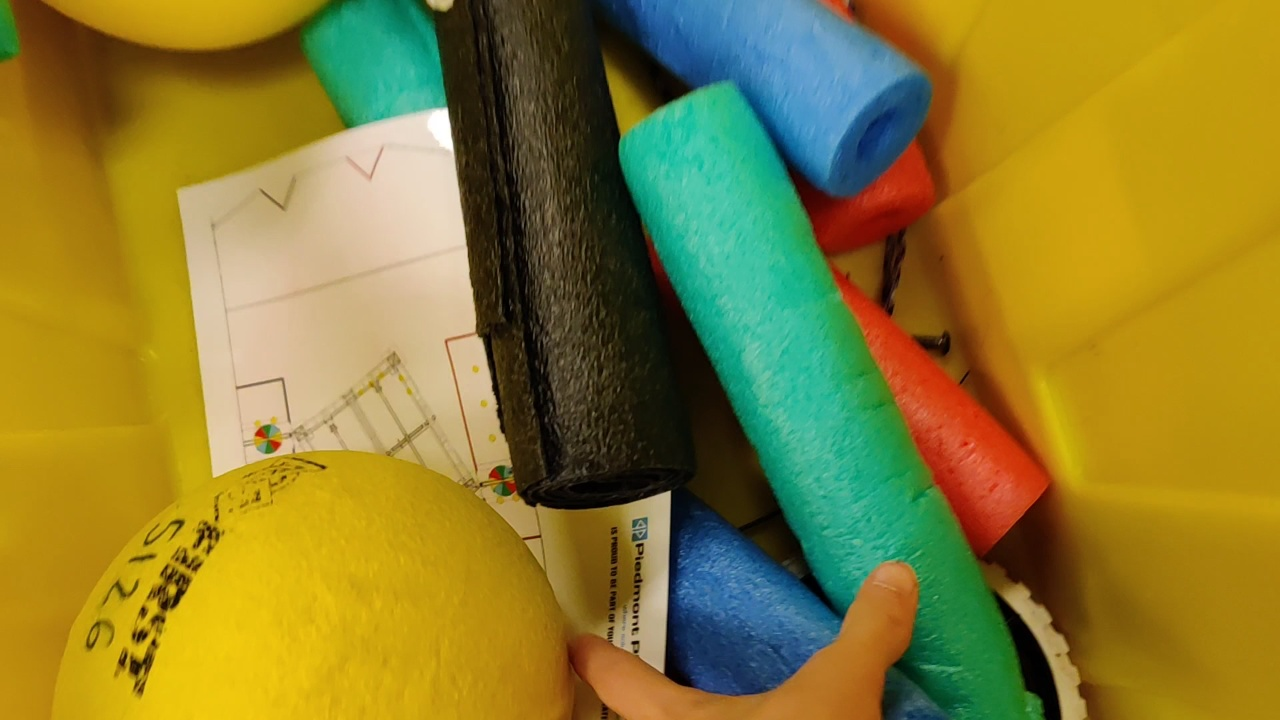Ball: (50, 450, 583, 720)
